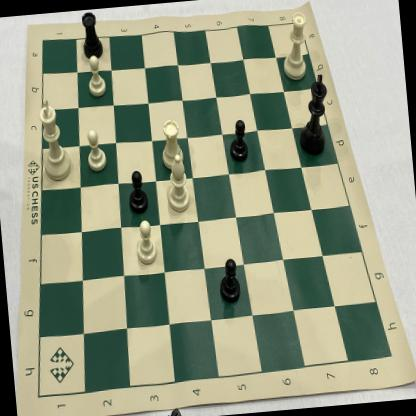bishop: (161, 152, 196, 219)
king: (293, 69, 336, 161), (33, 92, 75, 184)
pawn: (132, 217, 164, 271), (215, 252, 245, 308), (80, 125, 112, 176), (123, 165, 152, 220), (224, 115, 252, 166), (83, 52, 109, 102)
queen: (276, 7, 313, 82)
rook: (154, 111, 188, 174), (76, 8, 106, 63)
